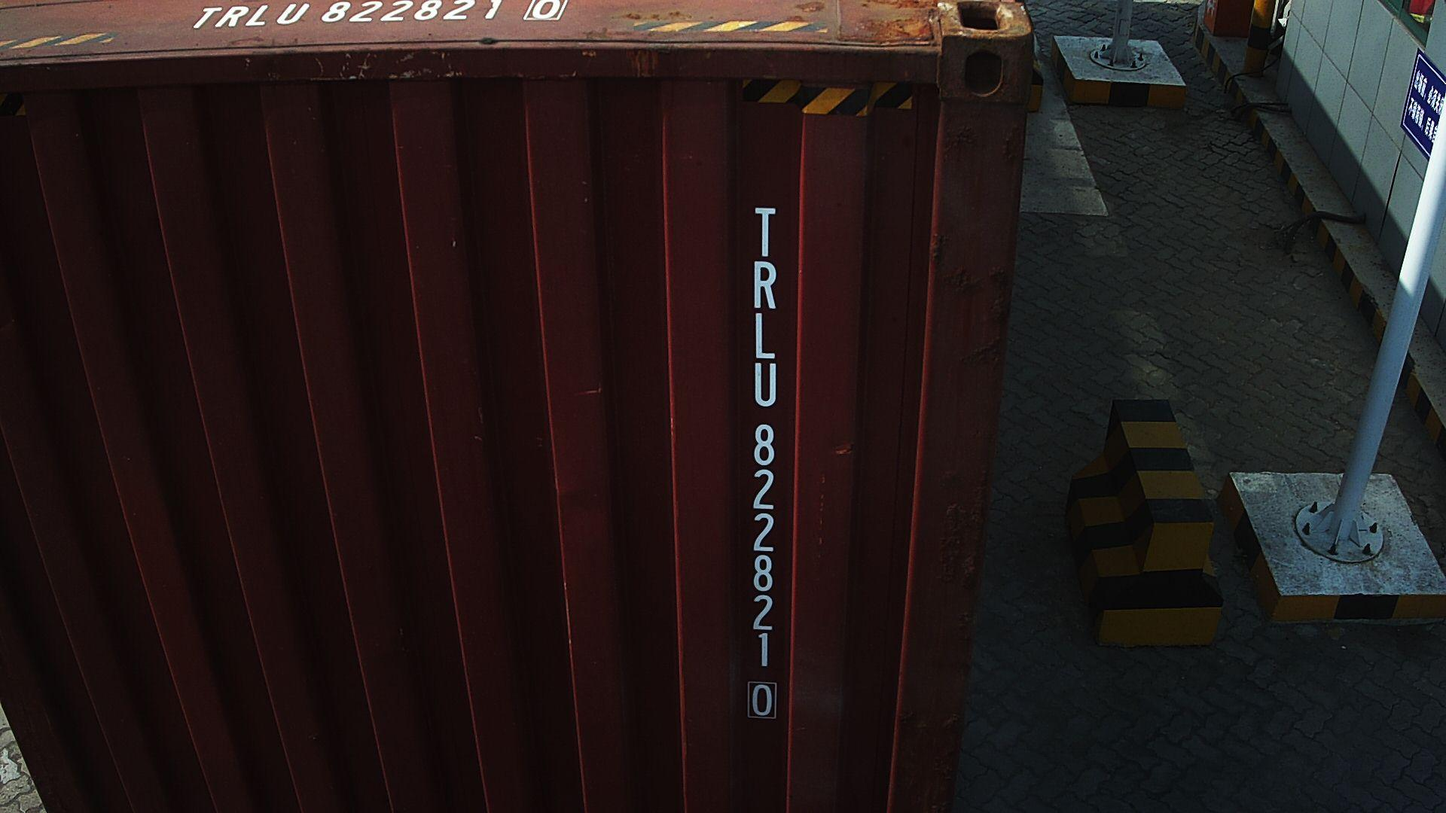container-numbers: (736, 197, 786, 724), (185, 0, 573, 30)
